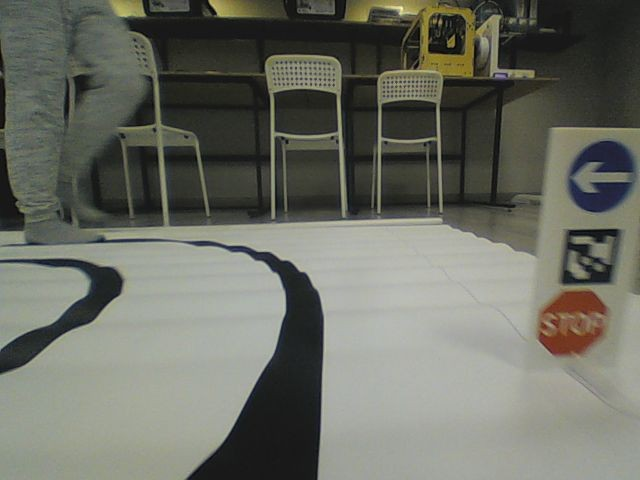Stop: (537, 288, 611, 361)
